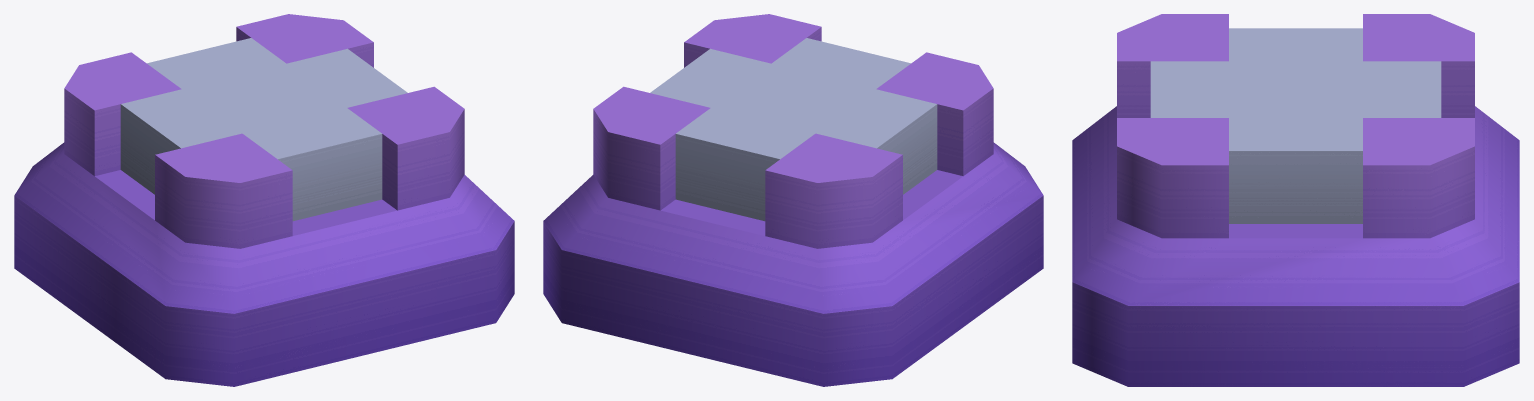
File: tower_square_bottom_c.glb
The picture shows the model from 3 angles, left to right: view 1: azimuth 30°, elevation 25°; view 2: azimuth 150°, elevation 25°; view 3: azimuth 270°, elevation 25°; orthographic projection. The views are drawn at different scales.
Parts seen in each view (by area): view 1: tower-square-bottom-c; view 2: tower-square-bottom-c; view 3: tower-square-bottom-c.
Part boxes in pixels (x1,y1,x2,y2): tower-square-bottom-c: (14,14,514,386); tower-square-bottom-c: (543,14,1043,386); tower-square-bottom-c: (1072,14,1519,386).
Size of the model in its own units: 1 by 0.5 by 1.
Materials: 1 (1 with a texture image).
